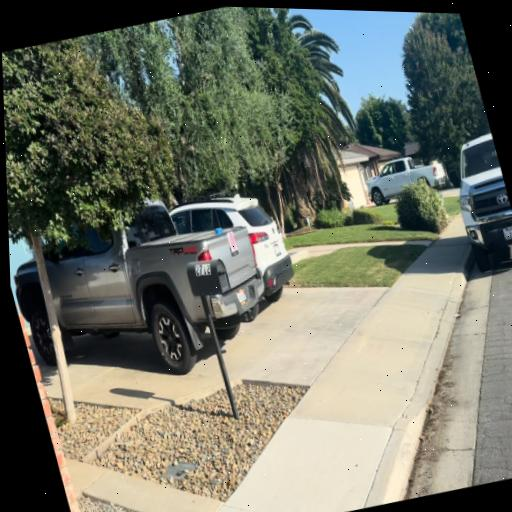bullseye: (227, 231, 238, 252)
